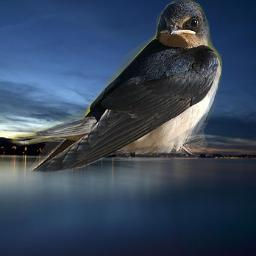Swallow: (8, 0, 222, 172)
